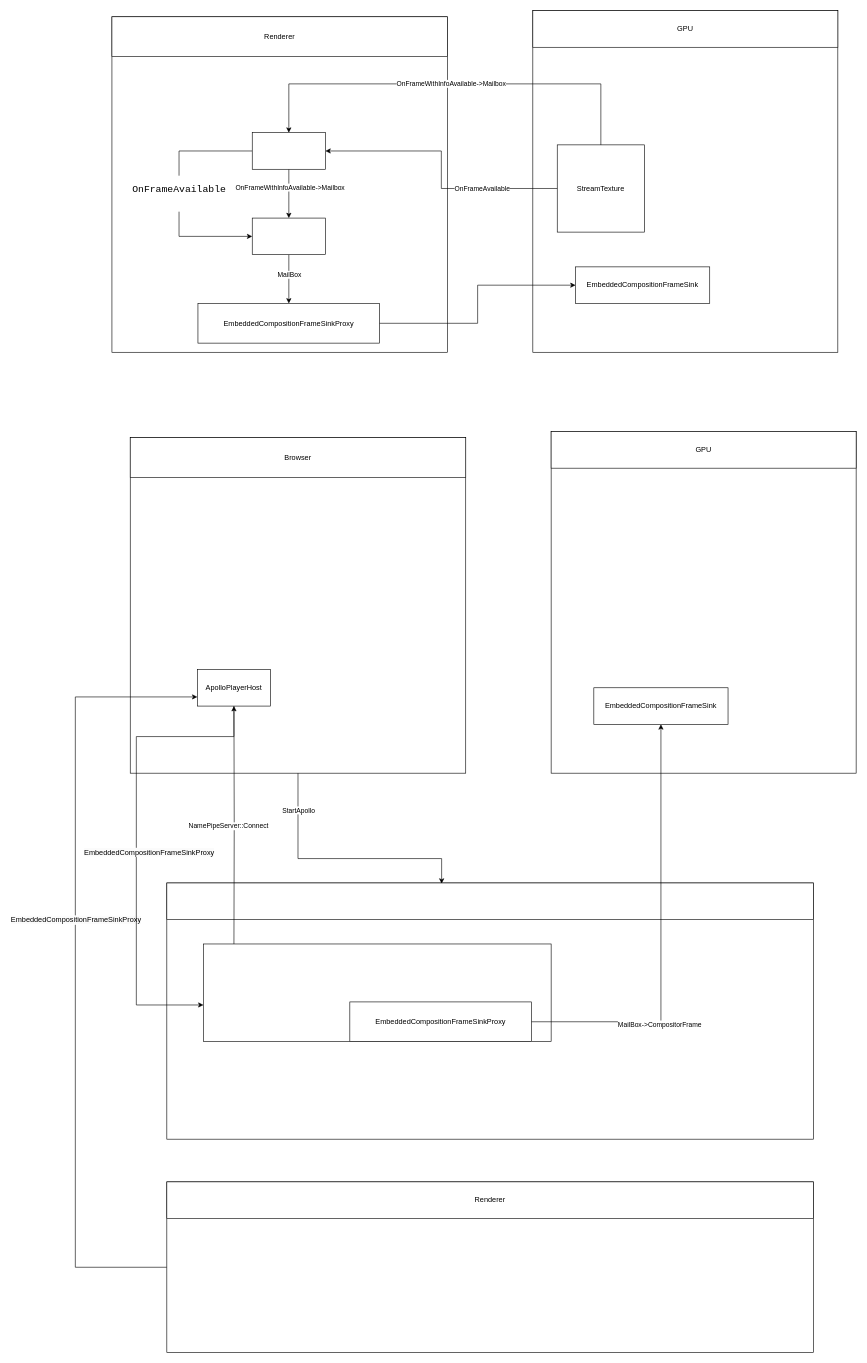
Image size: 867x1363. Some labels were removed from this diagram. The box of each missing label's shape, as (x1, y1, x2, y2) in pixels:
Apollo Service Process: (166, 882, 813, 920)
ApolloPlayerImpl: (203, 943, 551, 1042)
StreamTextureHost: (252, 132, 325, 169)
VideoFrameSubmitter: (252, 217, 325, 255)
